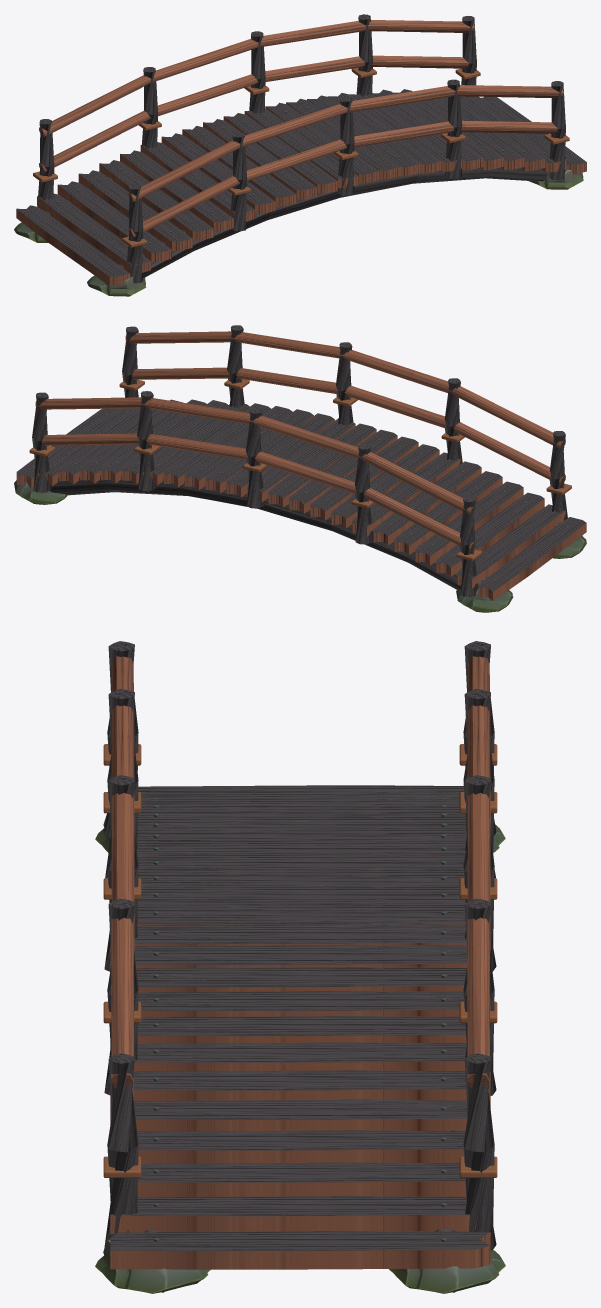
File: Woodland_Wooden_Bridge_Barren.glb
3 renders of one model, top to bottom at view 1: azimuth 30°, elevation 25°; view 2: azimuth 150°, elevation 25°; view 3: azimuth 270°, elevation 25°, orthographic. The views are drawn at different scales.
Visible parts, largest first — view 1: Structure; view 2: Structure; view 3: Structure.
Boxes of the visible parts, x1,y1,x2,y2 form: Structure: (14, 14, 586, 296); Structure: (14, 325, 586, 612); Structure: (95, 641, 505, 1293).
Size of the model in its own units: 6.6 by 1.88 by 2.4.
Materials: 5 (3 with a texture image).
